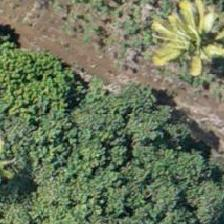coconut_tree: (153, 0, 223, 85)
